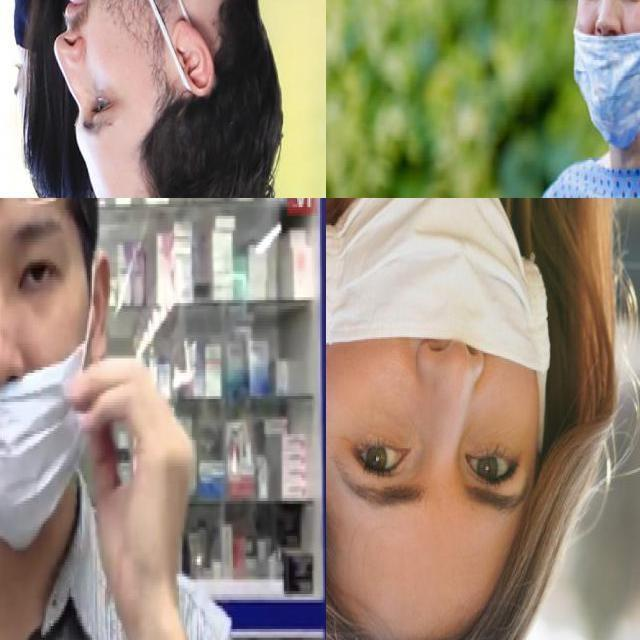hairnet: (327, 197, 562, 407), (0, 350, 87, 545), (573, 0, 639, 150)
